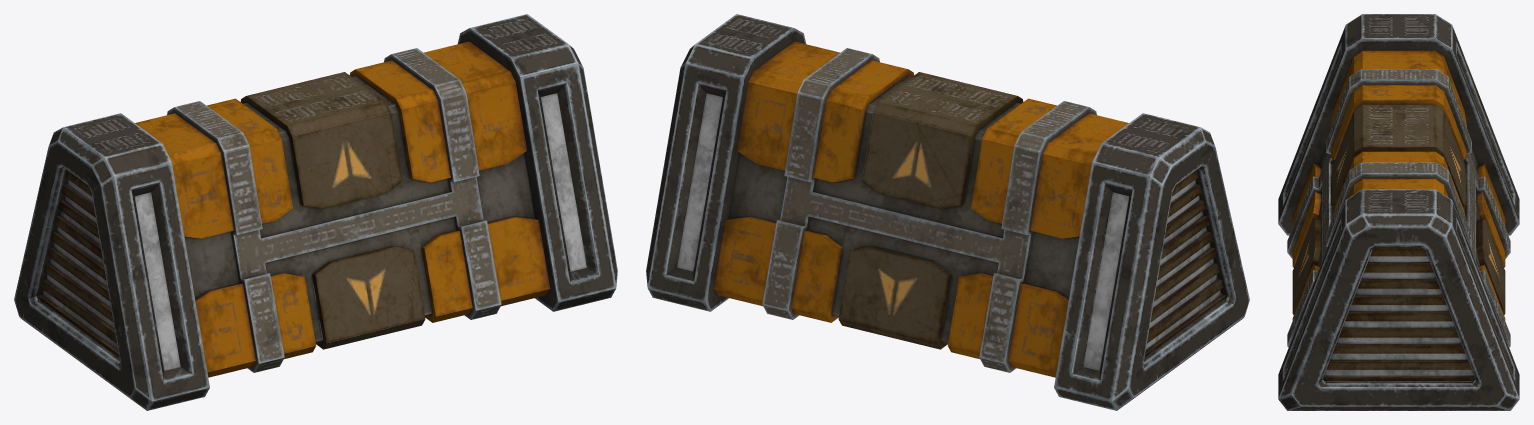
The model's file is scifi_box2.fbx.
3 renders of one model, left to right at view 1: azimuth 30°, elevation 25°; view 2: azimuth 150°, elevation 25°; view 3: azimuth 270°, elevation 25°, orthographic. The views are drawn at different scales.
Visible parts, largest first — view 1: scifi_box2; view 2: scifi_box2; view 3: scifi_box2.
Boxes of the visible parts, <box> form: scifi_box2: <box>14,14,617,410</box>; scifi_box2: <box>646,14,1249,410</box>; scifi_box2: <box>1278,14,1519,410</box>.
Size of the model in its own units: 160 by 70.53 by 78.44.
1 material, 1 textured.
